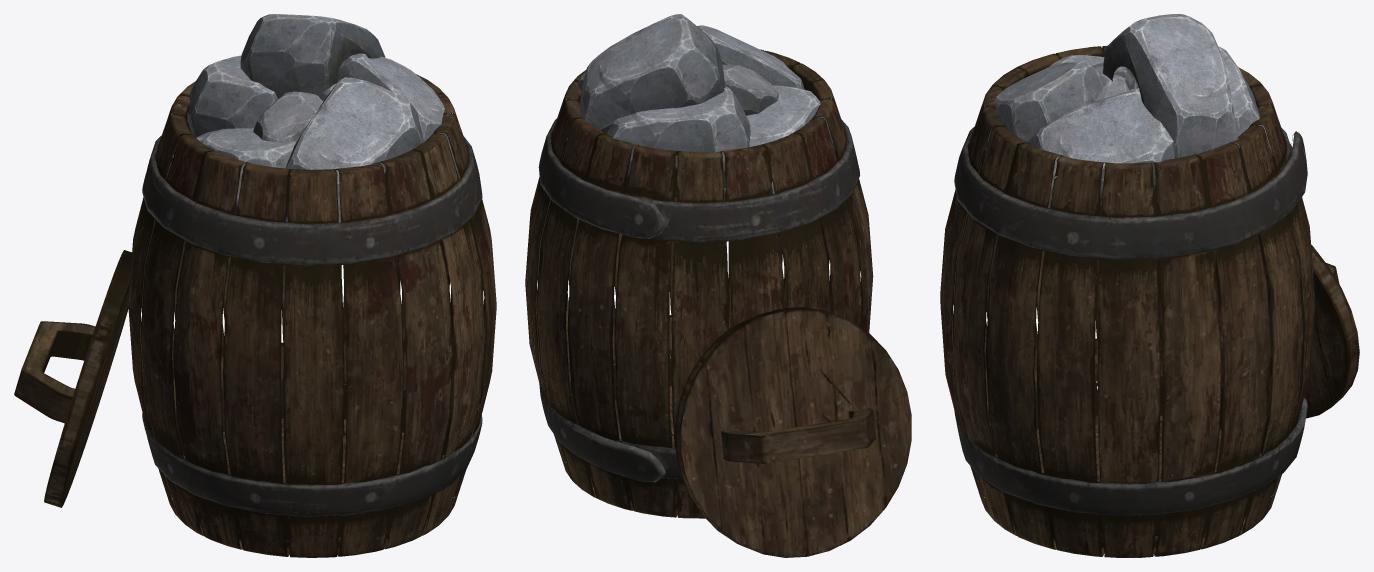
3 renders of one model, left to right at view 1: azimuth 30°, elevation 25°; view 2: azimuth 150°, elevation 25°; view 3: azimuth 270°, elevation 25°, orthographic. The views are drawn at different scales.
Parts seen in each view (by area): view 1: SM_Dec_Barrel_of_Granite_LOD0; view 2: SM_Dec_Barrel_of_Granite_LOD0; view 3: SM_Dec_Barrel_of_Granite_LOD0.
Boxes of the visible parts, x1=… form: SM_Dec_Barrel_of_Granite_LOD0: x1=14, y1=14, x2=496, y2=557; SM_Dec_Barrel_of_Granite_LOD0: x1=525, y1=14, x2=911, y2=557; SM_Dec_Barrel_of_Granite_LOD0: x1=940, y1=14, x2=1359, y2=557.
Bounding box in the file's own units: 1.02 × 1.16 × 0.9052.
Materials: 2 (2 with a texture image).
